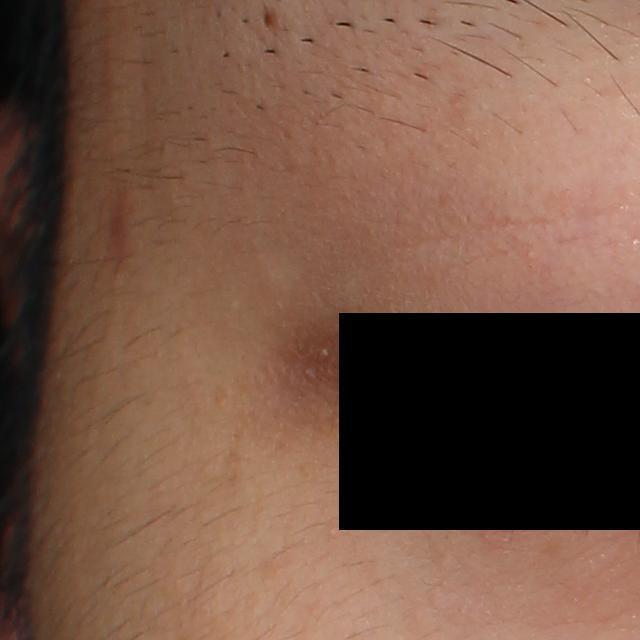nevus: (261, 5, 282, 30)
